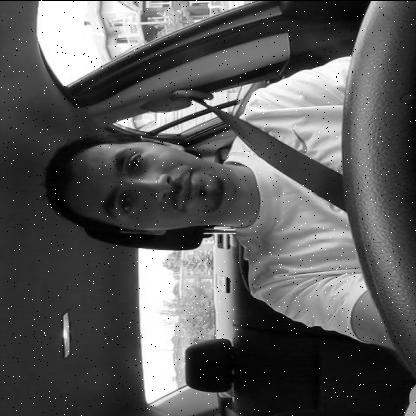seatbelt: (34, 108, 342, 248)
